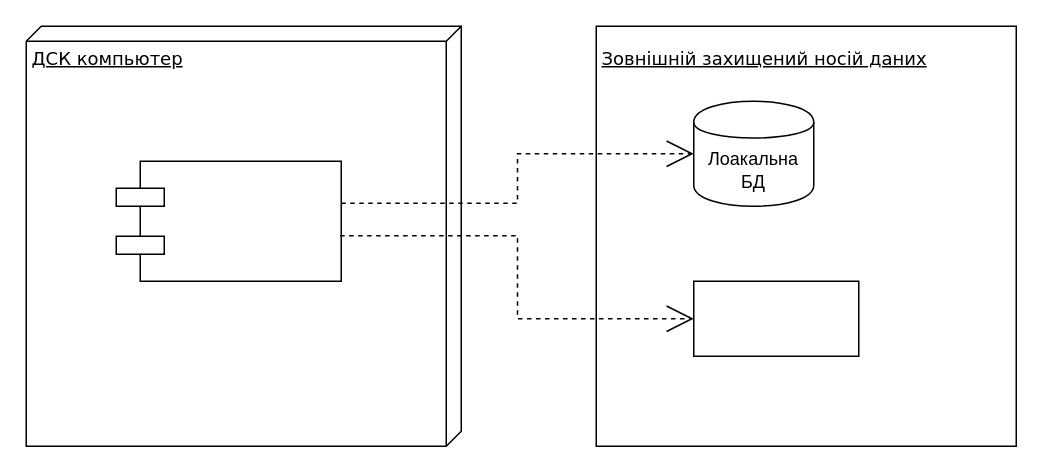
Some shapes in this 1043 by 473 pixel diagram are drawn without their labels. The centre of each missing label's shape, as x and y in pixels:
ПЗ "Звітність": [228,220]
Файли звітів: [775,318]
